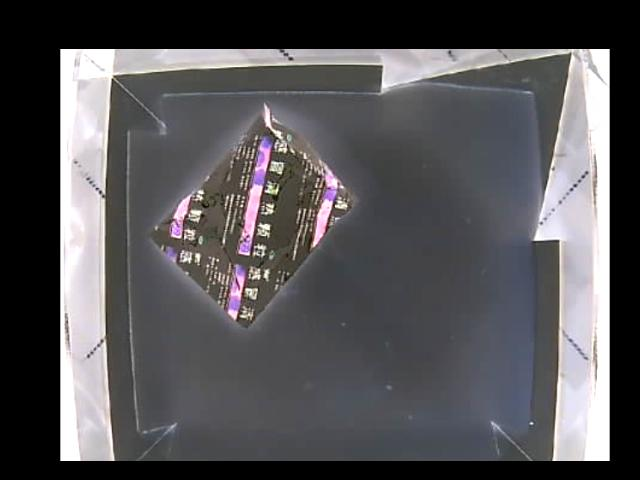Medicine: (146, 106, 353, 328)
